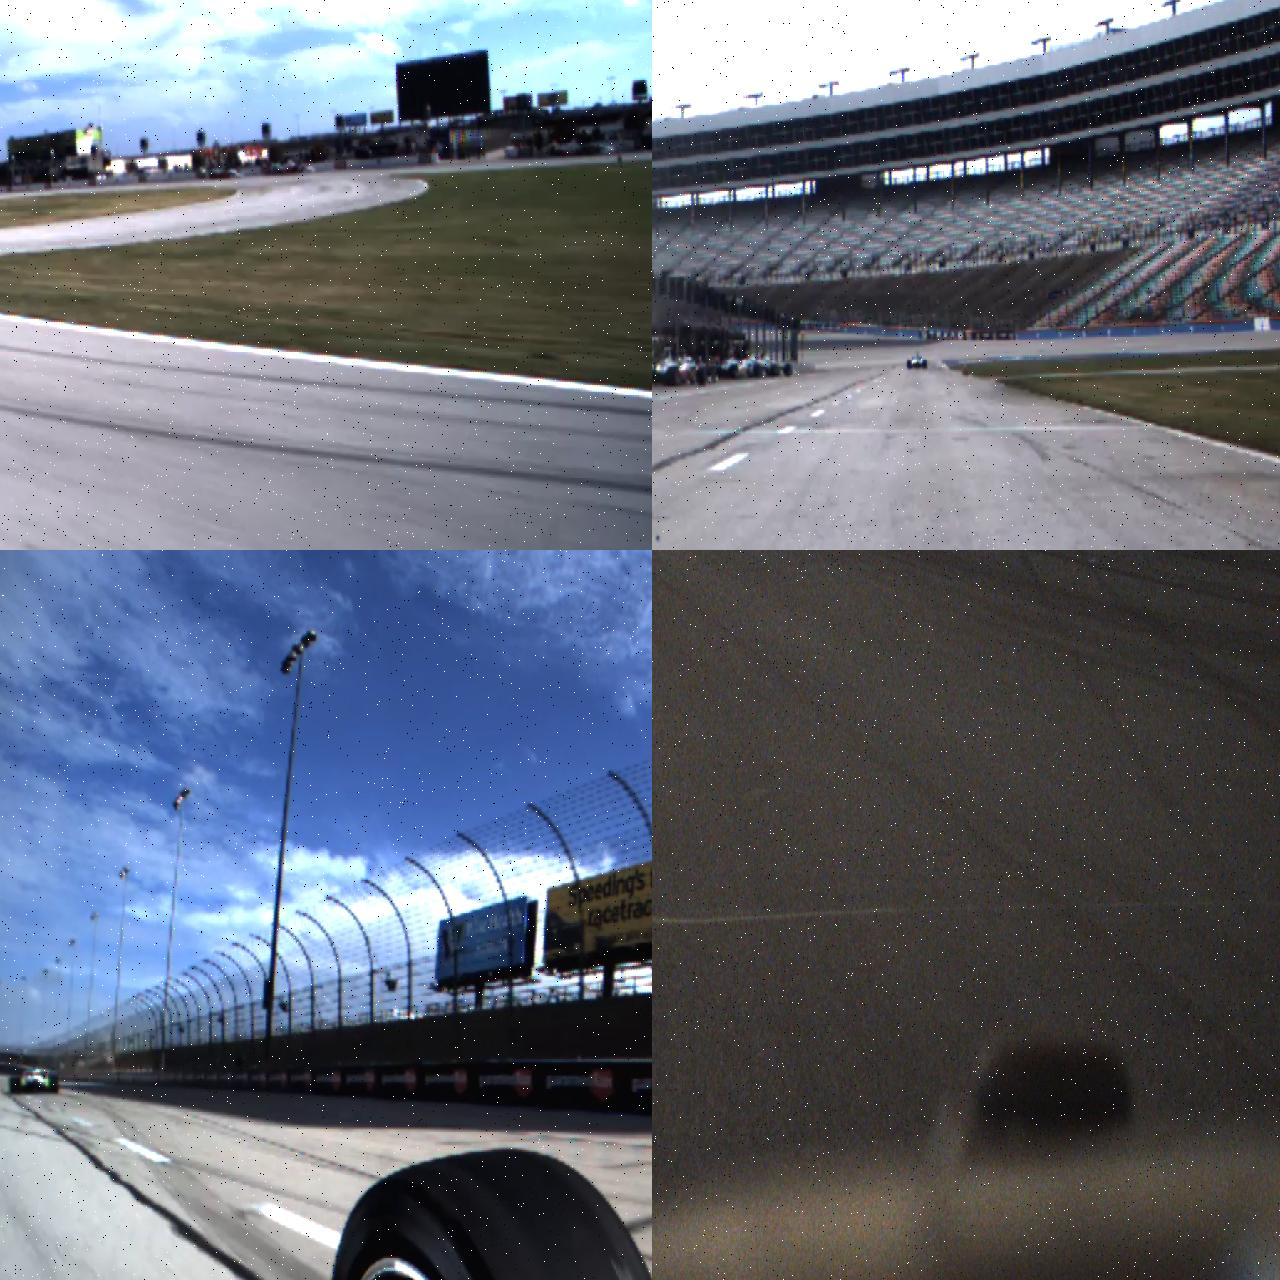AV: (9, 1062, 59, 1095), (907, 352, 927, 369)
Wheel: (331, 1146, 652, 1280), (667, 367, 681, 386), (697, 368, 707, 386), (11, 1077, 20, 1095), (770, 365, 781, 376), (50, 1075, 57, 1092), (754, 363, 762, 377), (783, 365, 792, 376), (922, 360, 927, 368), (907, 361, 912, 368)
